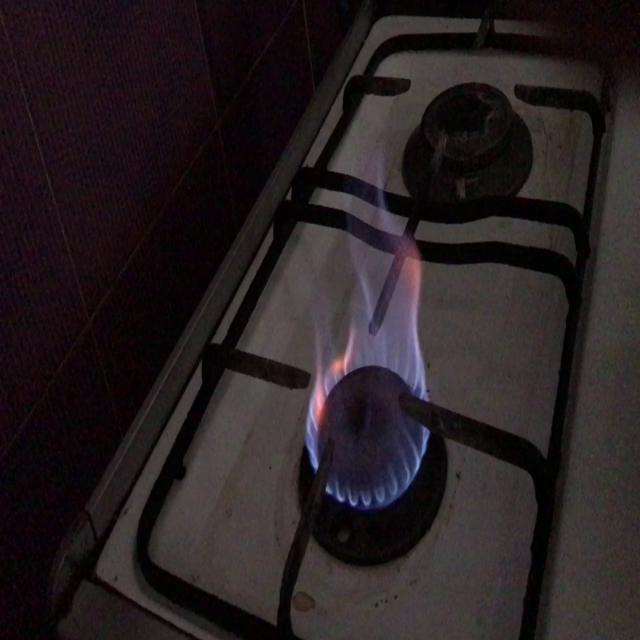Fire: (296, 230, 434, 506)
